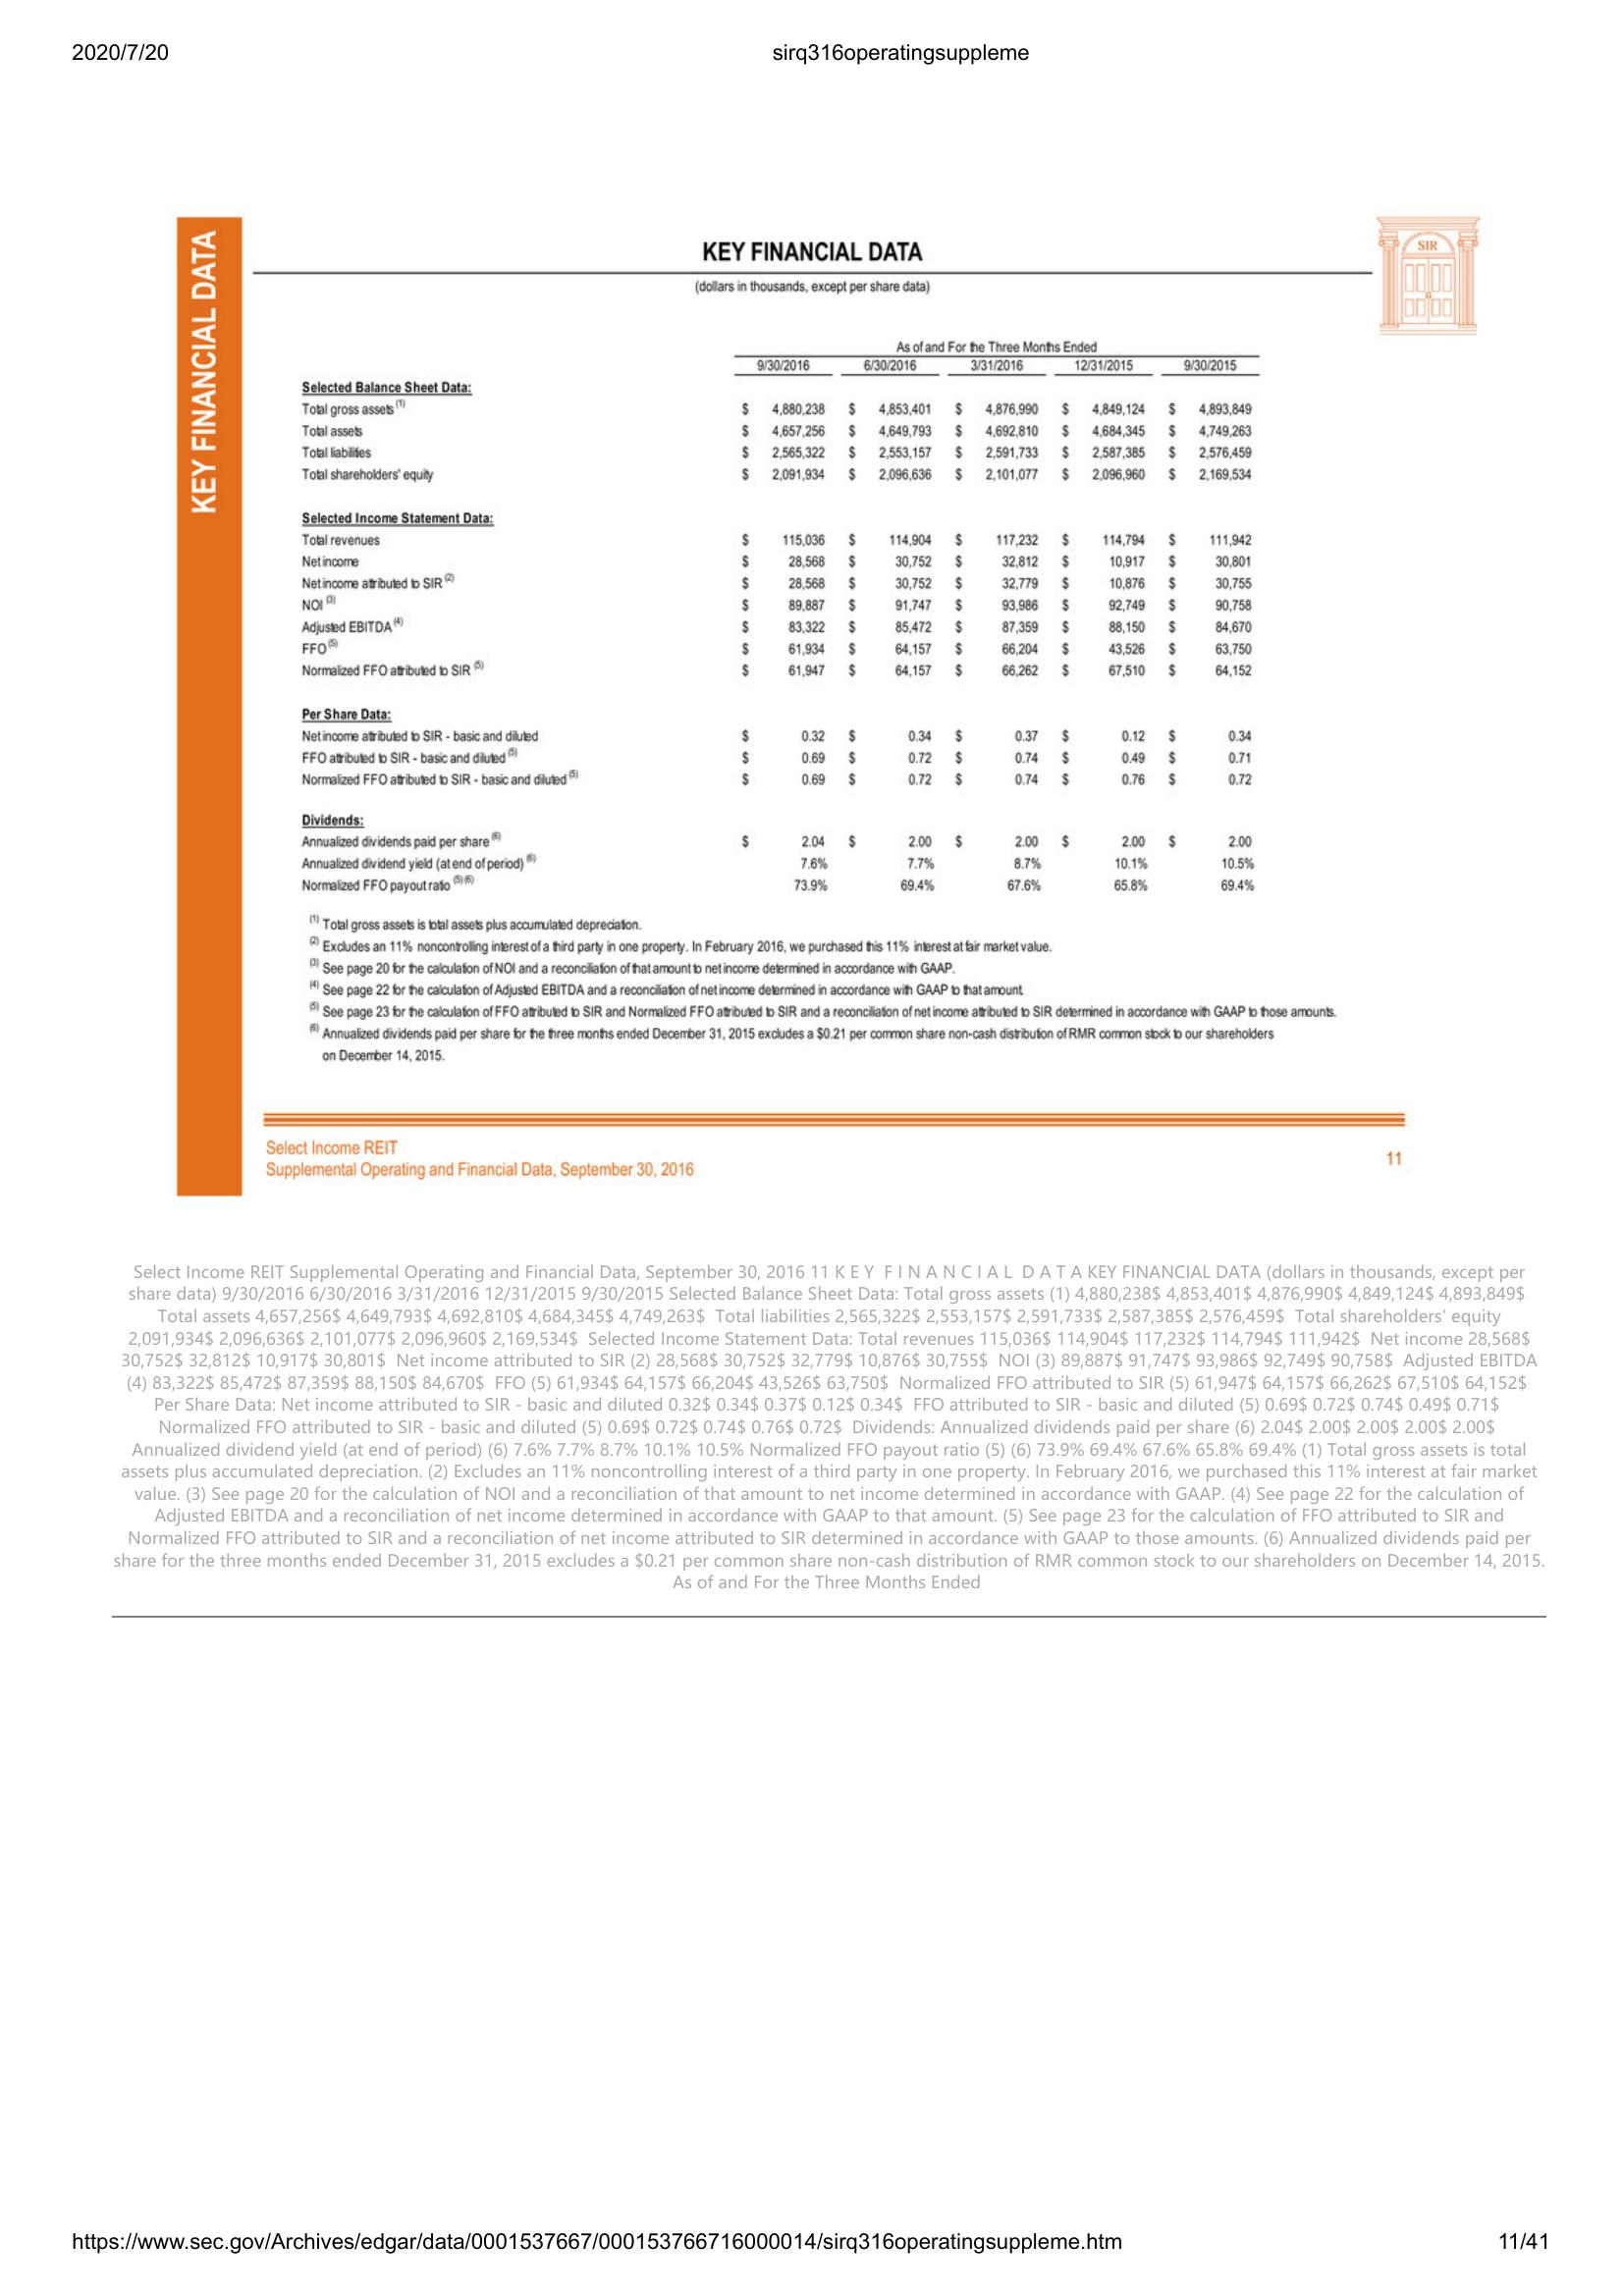table: (285, 335, 1266, 902)
